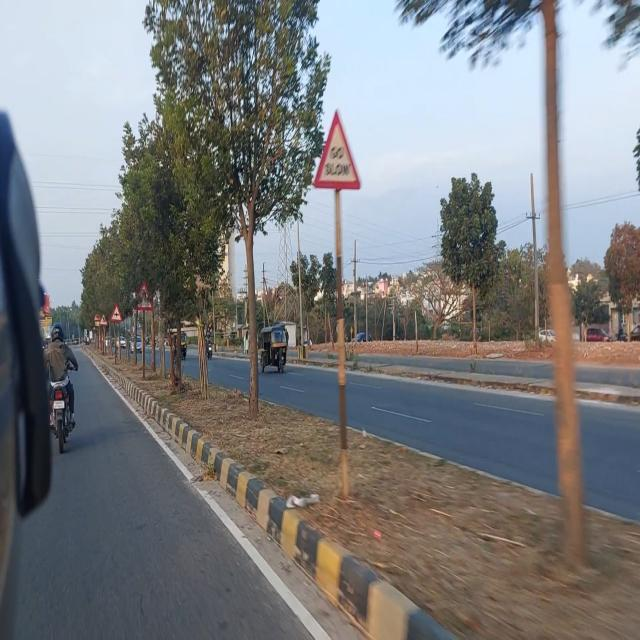bien_cam: (313, 105, 362, 192)
